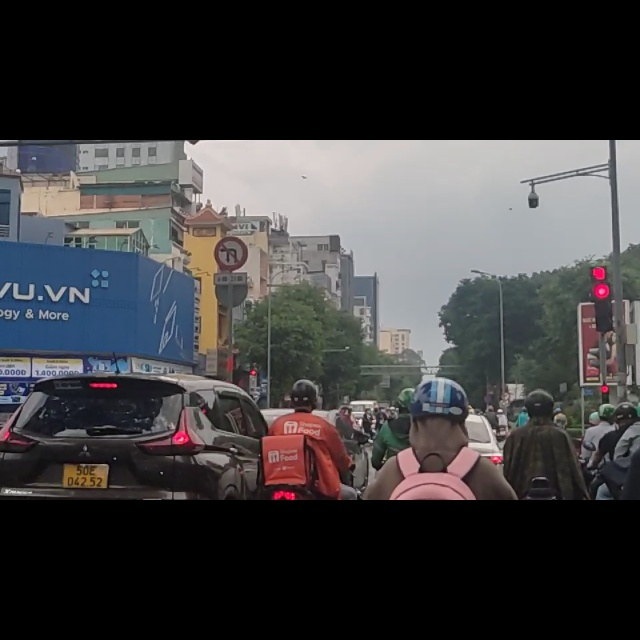bien_cam: (213, 173, 249, 233)
